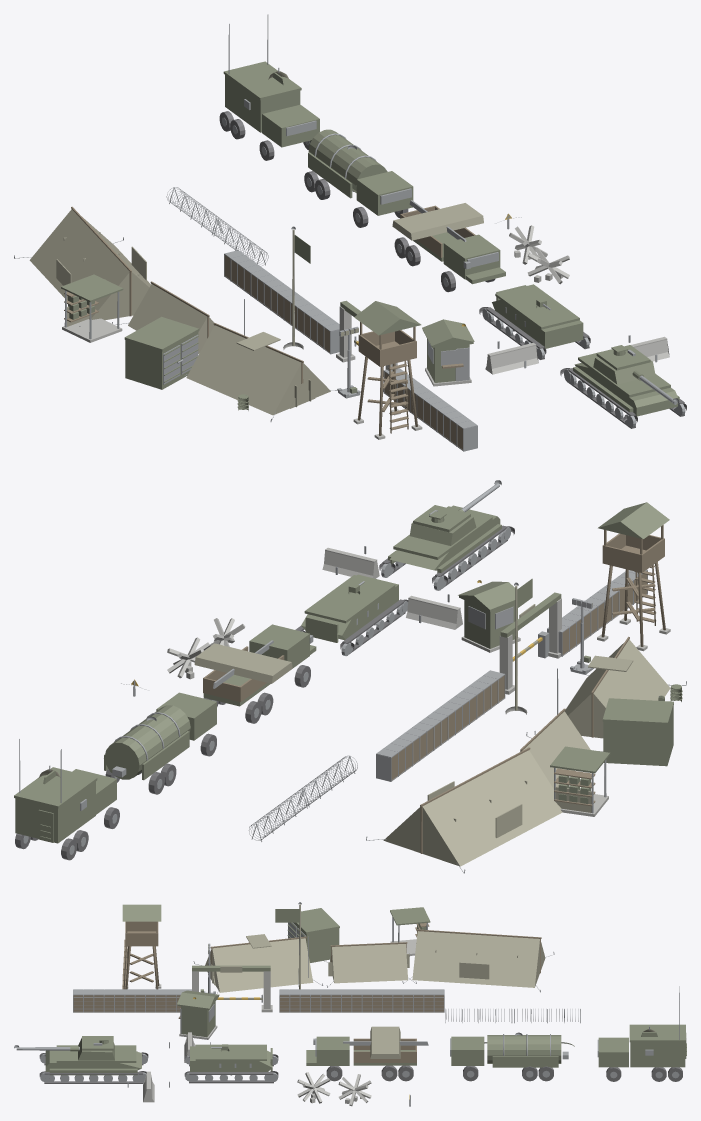
File: armoured-column-and-field-camp-armoured--a4ee7b20-starter-scene__23739.glb
The picture shows the model from 3 angles, top to bottom: view 1: azimuth 30°, elevation 25°; view 2: azimuth 150°, elevation 25°; view 3: azimuth 270°, elevation 25°; orthographic projection. The views are drawn at different scales.
Visible parts, largest first — view 1: 014-command-tent/0, 016-mess-tent/0, 013-guard-tower/0, 001-tracked-apc/3, 004-command-vehicle/2, 000-main-battle-tank/3, 015-squad-tent/0, 003-fuel-tanker/4, 018-storage-container/0, 002-supply-truck/7, 003-fuel-tanker/2, 004-command-vehicle/4 (+21 smaller); view 2: 016-mess-tent/0, 014-command-tent/0, 013-guard-tower/0, 001-tracked-apc/3, 004-command-vehicle/2, 003-fuel-tanker/4, 018-storage-container/0, 004-command-vehicle/4, 000-main-battle-tank/3, 002-supply-truck/7, 015-squad-tent/0, 019-supply-point/2 (+35 smaller); view 3: 016-mess-tent/0, 014-command-tent/0, 015-squad-tent/0, 004-command-vehicle/2, 001-tracked-apc/3, 003-fuel-tanker/4, 013-guard-tower/0, 000-main-battle-tank/3, 004-command-vehicle/4, 003-fuel-tanker/2, 002-supply-truck/2, 002-supply-truck/7 (+41 smaller).
Boxes of the visible parts, left/top/right/bottom form: 014-command-tent/0: left=186, top=325, right=330, bottom=415; 016-mess-tent/0: left=29, top=209, right=150, bottom=320; 013-guard-tower/0: left=357, top=322, right=417, bottom=435; 001-tracked-apc/3: left=492, top=284, right=583, bottom=348; 004-command-vehicle/2: left=225, top=75, right=319, bottom=147; 000-main-battle-tank/3: left=574, top=349, right=677, bottom=416; 015-squad-tent/0: left=128, top=284, right=214, bottom=353; 003-fuel-tanker/4: left=307, top=129, right=387, bottom=192; 018-storage-container/0: left=125, top=332, right=198, bottom=389; 002-supply-truck/7: left=392, top=203, right=483, bottom=240; 003-fuel-tanker/2: left=356, top=171, right=413, bottom=215; 004-command-vehicle/4: left=223, top=61, right=301, bottom=100; 016-mess-tent/0: left=383, top=750, right=562, bottom=866; 014-command-tent/0: left=565, top=639, right=670, bottom=738; 013-guard-tower/0: left=601, top=525, right=665, bottom=646; 001-tracked-apc/3: left=301, top=574, right=398, bottom=640; 004-command-vehicle/2: left=15, top=769, right=116, bottom=843; 003-fuel-tanker/4: left=104, top=705, right=190, bottom=779; 018-storage-container/0: left=603, top=706, right=673, bottom=766; 004-command-vehicle/4: left=14, top=767, right=97, bottom=842; 000-main-battle-tank/3: left=390, top=505, right=500, bottom=570; 002-supply-truck/7: left=194, top=643, right=292, bottom=683; 015-squad-tent/0: left=520, top=711, right=590, bottom=788; 019-supply-point/2: left=550, top=746, right=610, bottom=803; 016-mess-tent/0: left=412, top=931, right=545, bottom=987; 014-command-tent/0: left=205, top=938, right=313, bottom=992; 015-squad-tent/0: left=330, top=944, right=407, bottom=983; 004-command-vehicle/2: left=598, top=1037, right=685, bottom=1067; 001-tracked-apc/3: left=190, top=1044, right=272, bottom=1071; 003-fuel-tanker/4: left=484, top=1035, right=574, bottom=1063; 013-guard-tower/0: left=122, top=921, right=159, bottom=989; 000-main-battle-tank/3: left=45, top=1045, right=141, bottom=1071; 004-command-vehicle/4: left=629, top=1024, right=686, bottom=1058; 003-fuel-tanker/2: left=451, top=1036, right=484, bottom=1065; 002-supply-truck/2: left=316, top=1036, right=349, bottom=1065; 002-supply-truck/7: left=370, top=1026, right=400, bottom=1058.
Size of the model in its own units: 29.62 by 7.68 by 48.92.
